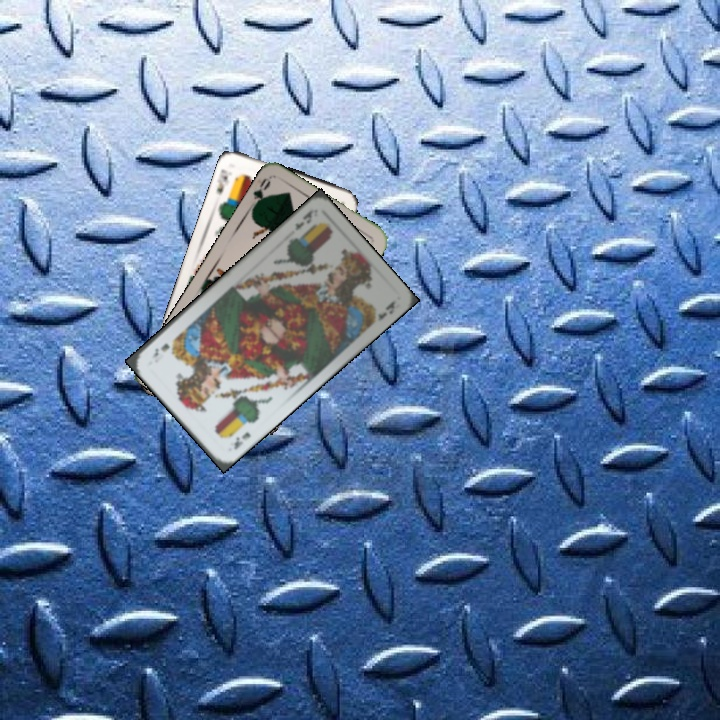EK: (291, 205, 317, 233), (213, 165, 235, 198), (230, 428, 253, 452)
GO: (248, 174, 273, 212)
